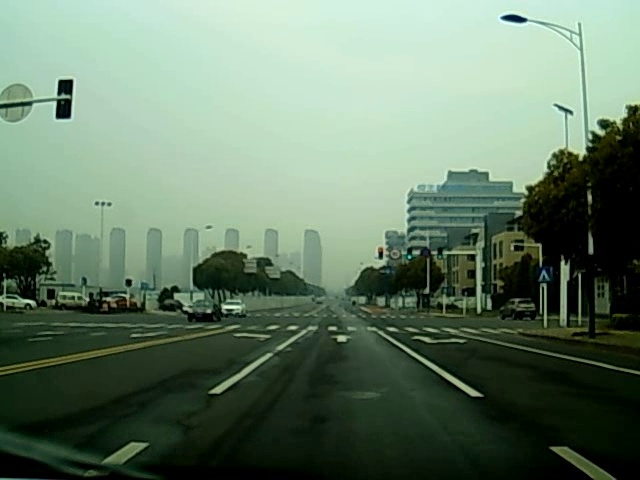Traffic_Light_go: (437, 246, 444, 261), (406, 248, 413, 261)
Traffic_Light_stop: (376, 248, 383, 262)
